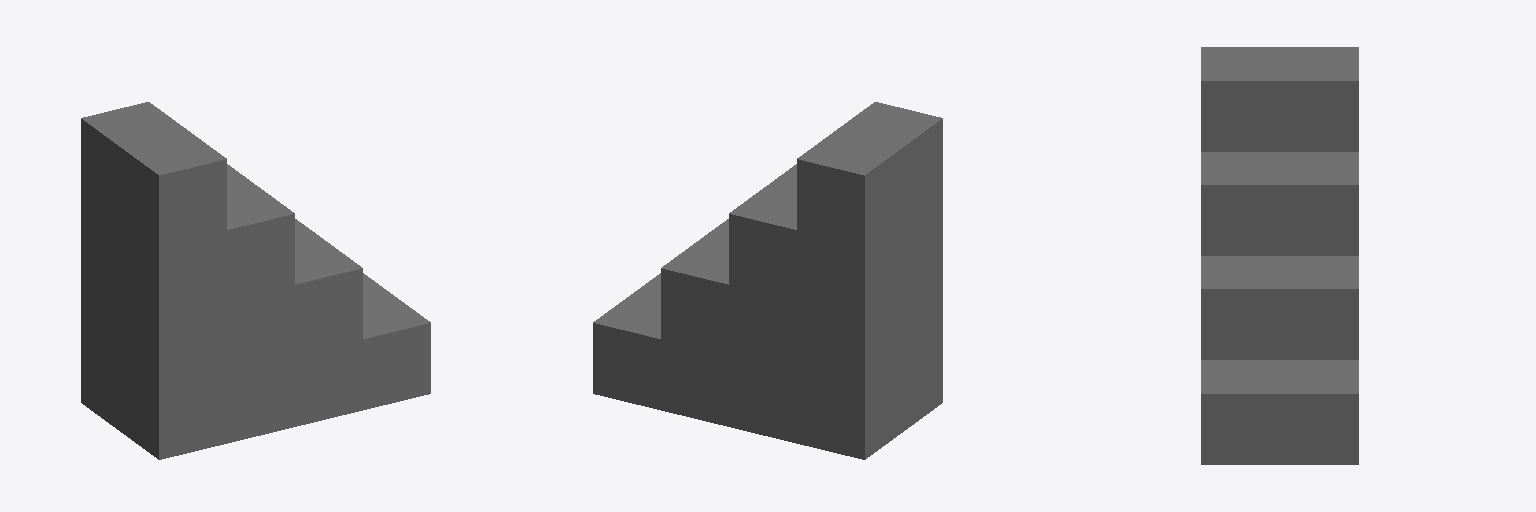
File: stairs.obj
3 renders of one model, left to right at view 1: azimuth 30°, elevation 25°; view 2: azimuth 150°, elevation 25°; view 3: azimuth 270°, elevation 25°, orthographic.
Visible parts, largest first — view 1: stairs; view 2: stairs; view 3: stairs.
Boxes of the visible parts, box(x1,y1,x2,y2) form: stairs: box(81, 102, 430, 459); stairs: box(593, 102, 942, 459); stairs: box(1201, 47, 1358, 464).
Bounding box in the file's own units: 2 × 2 × 1.